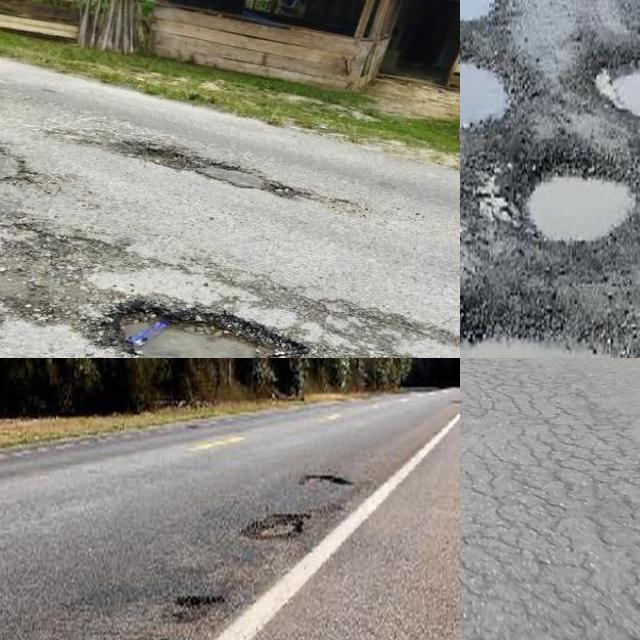Lubang: (510, 153, 640, 244), (114, 302, 305, 358), (460, 49, 519, 125), (232, 509, 305, 545), (595, 60, 640, 116), (172, 594, 219, 624), (302, 467, 358, 492)
Retak Buaya: (460, 358, 640, 640)
